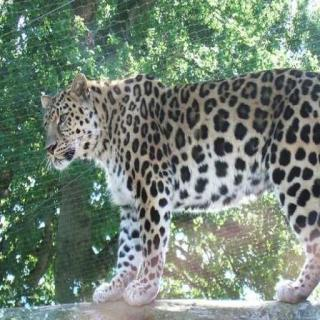Leopard: (34, 61, 320, 297)
